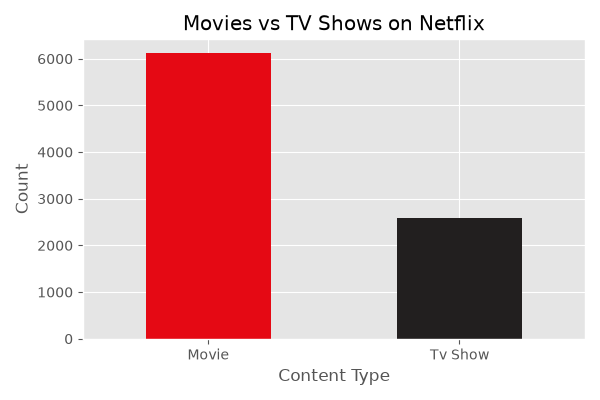

This screenshot's page, from the dashboard's own definition file:
{"tool":"powerbi","page":{"name":"Page 2","canvas":[1280,720],"ordinal":1},"visuals":[{"type":"clusteredBarChart","fields":{"Category":["netflix_titles_cleaned.type"],"Y":["CountNonNull(netflix_titles_cleaned.show_id)"]},"box":[9.6,0,769.8,620.2],"z":0}]}

Visuals, with their boxes on the page's 1280x720 design canvas (x1, y1, x2, y2). These are canvas units, not pixel positions in the 600x400 screenshot, which may show the page scaled, cropped or inside an application window:
clusteredBarChart - netflix_titles_cleaned.type x CountNonNull(netflix_titles_cleaned.show_id): 10/0/779/620
